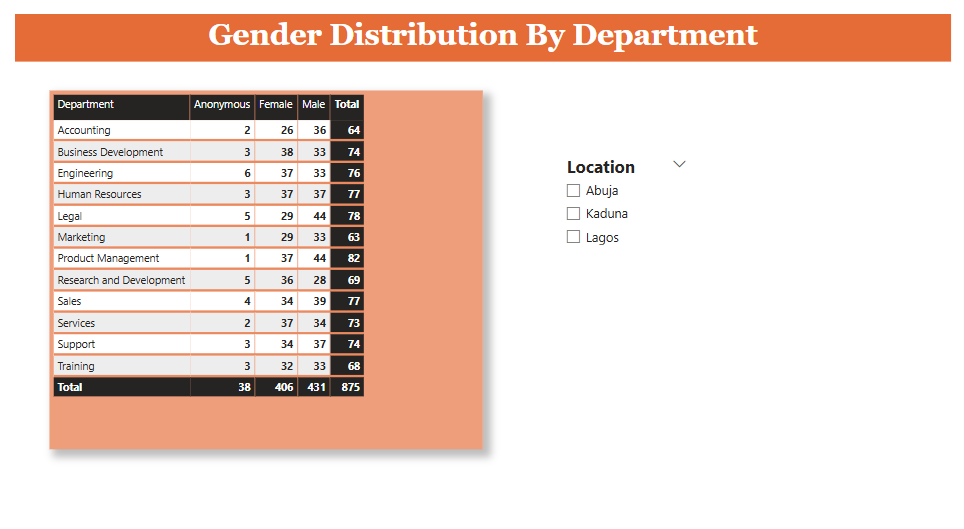

Layout of this report page (visuals, bound fields, positions):
{"tool":"powerbi","page":{"name":"Page 2","canvas":[1280,720],"ordinal":3},"visuals":[{"type":"textbox","box":[45.8,37.8,1179.1,59.8],"z":0},{"type":"pivotTable","fields":{"Rows":["Palmoria Group emp-data.Department"],"Columns":["Palmoria Group emp-data.Gender"],"Values":["Palmoria Group emp-data.Name"]},"box":[89.6,133.4,545.7,452.1],"z":1000},{"type":"slicer","fields":{"Values":["Palmoria Group emp-data.Location"]},"box":[727.6,209.8,175.7,149.3],"z":2000}]}

Visuals, with their boxes in screenshot pixels (x1, y1, x2, y2), scaled from the page's 1280x720 canvas onto the 964x529 screenshot:
textbox: <box>34,28,923,72</box>
pivotTable - Palmoria Group emp-data.Department x Palmoria Group emp-data.Gender: <box>67,98,478,430</box>
slicer - Palmoria Group emp-data.Location: <box>548,154,680,264</box>
